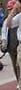boots: (1, 1, 1, 1)
hard-hat: (0, 1, 9, 14)
